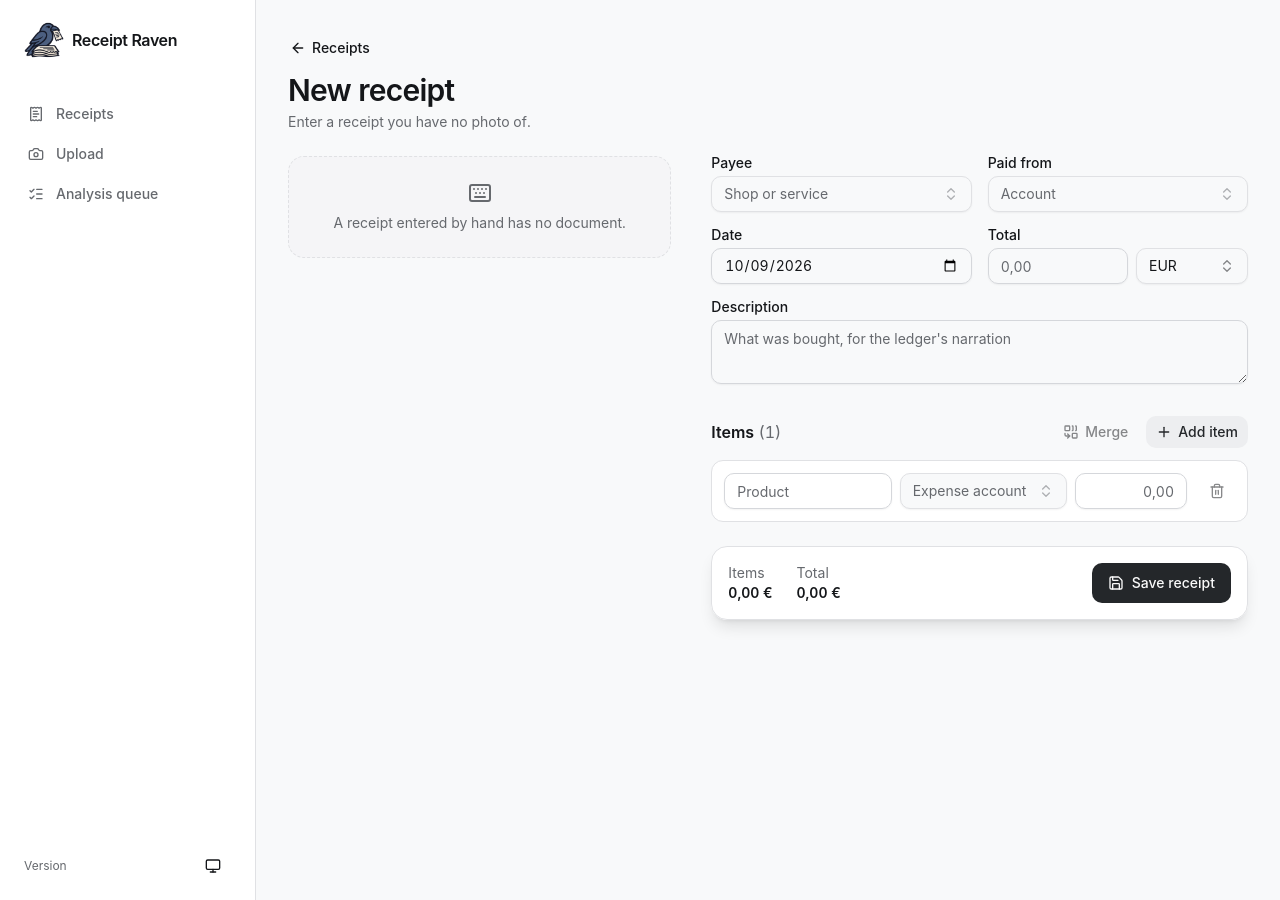
Test: tells what is missing before saving
This screenshot has width=1280, height=900.
Click the button "Save receipt" at [1161, 583], box [1092,563,1231,603]
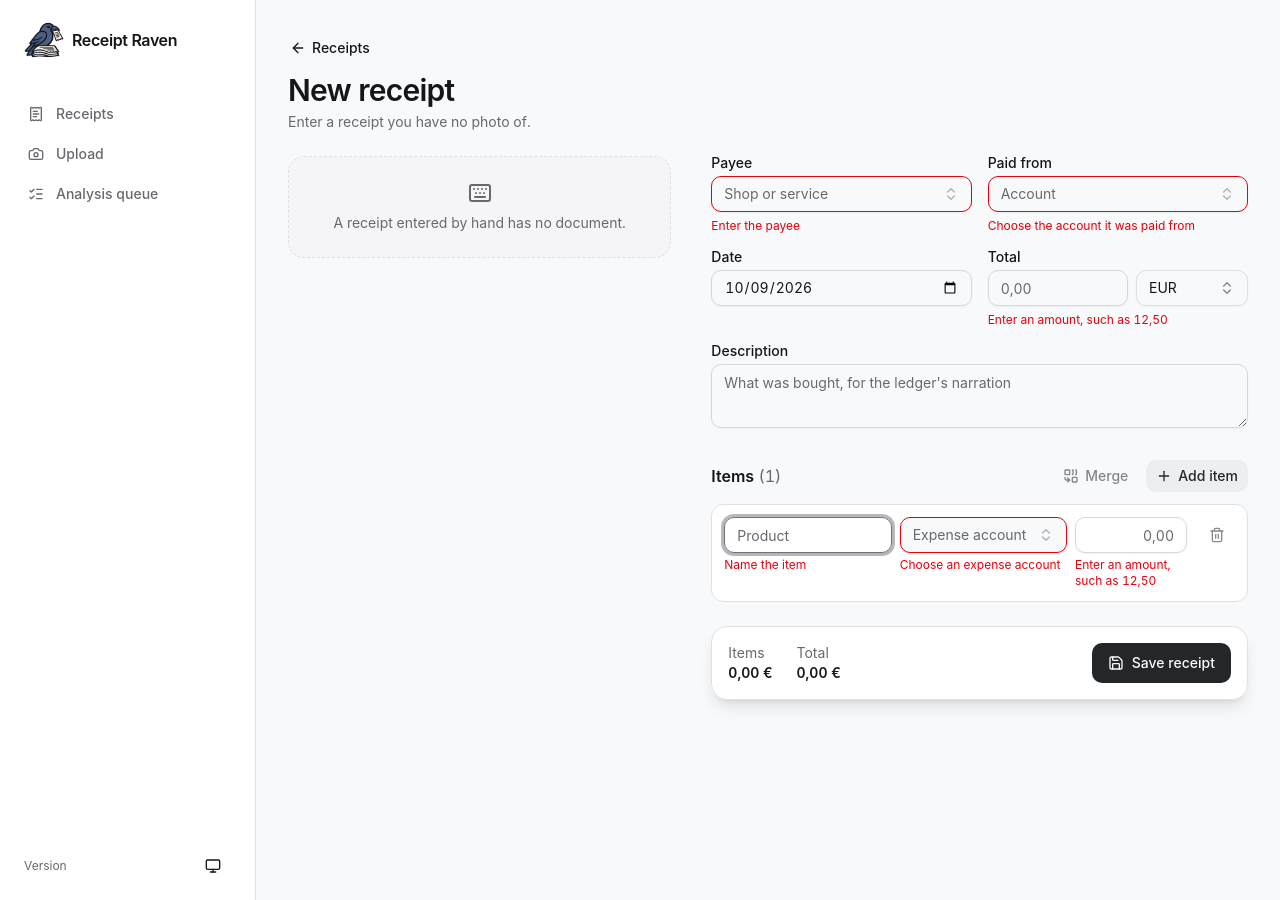
Result: the text "Enter the payee" is shown at [711,218,800,233]
Result: the text "Choose the account it was paid from" is shown at [988,218,1195,233]
Result: the text "Name the item" is shown at [724,557,806,572]
